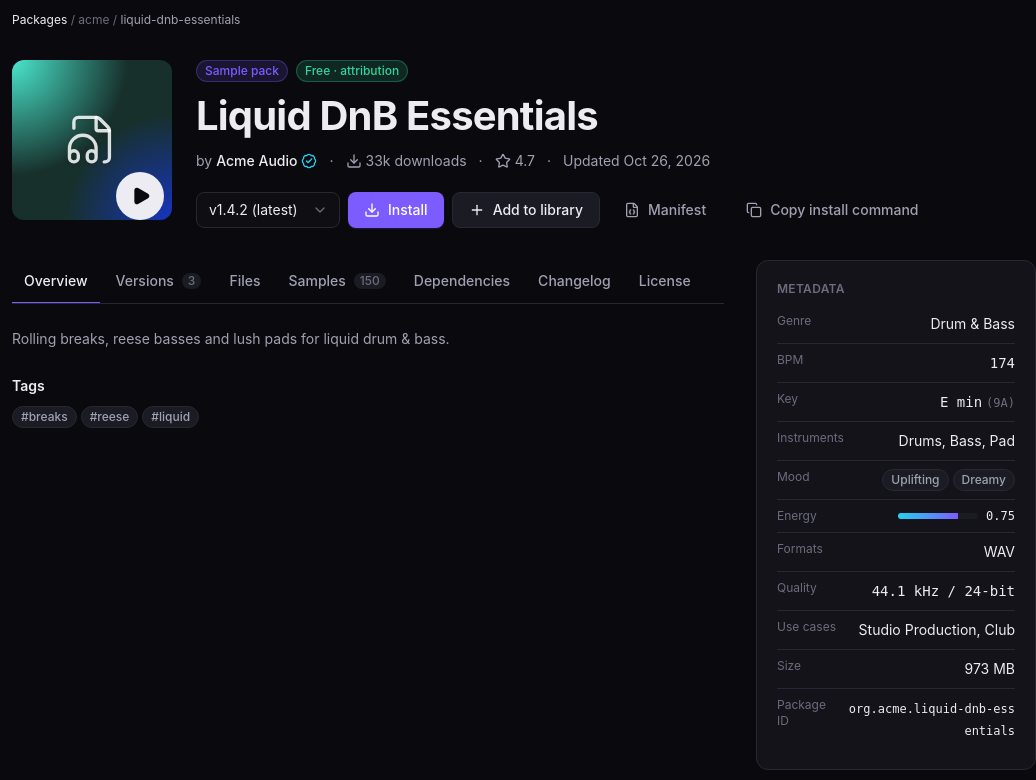
Test: PackageDetailsView › renders metadata, switches tabs and adds the package to the library
Expected: the heading "Liquid DnB Essentials" is shown, [196,91,598,140]
Expected: the link "Drum & Bass" is shown, [930,315,1015,332]
Click the tab "Versions 3".
click(158, 282)  # box [104,260,213,304]
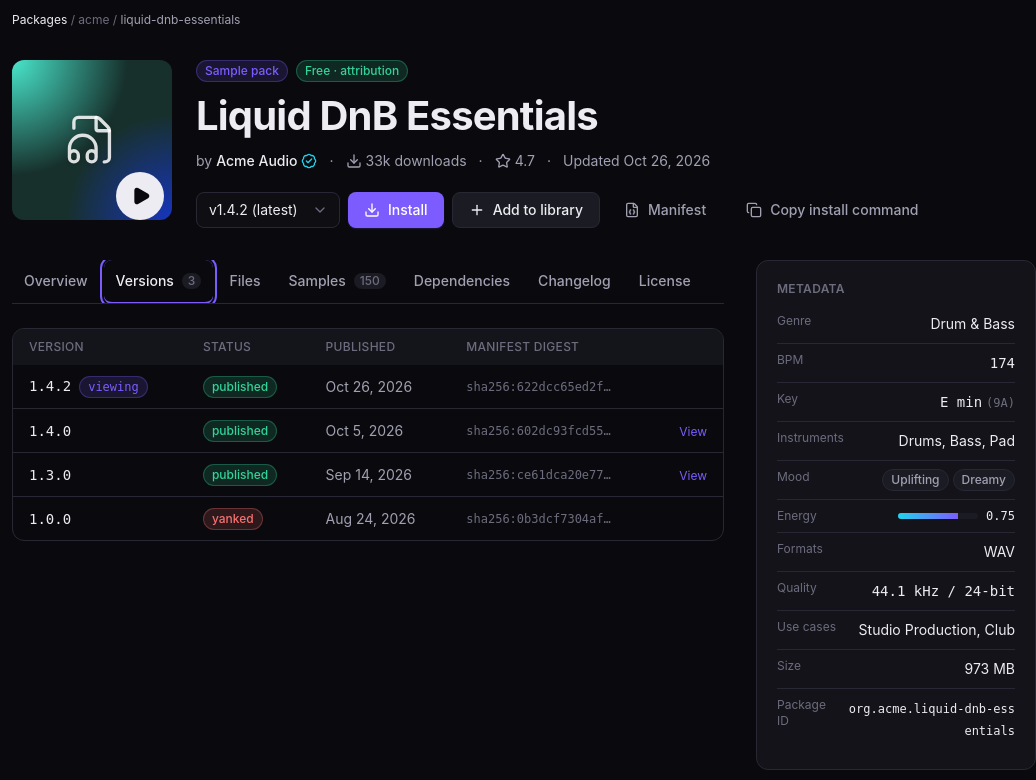
Now the cell "1.4.2 viewing" is shown, box [13,365,187,408]
Click the button "Add to library".
click(526, 210)  # box [452,192,600,228]
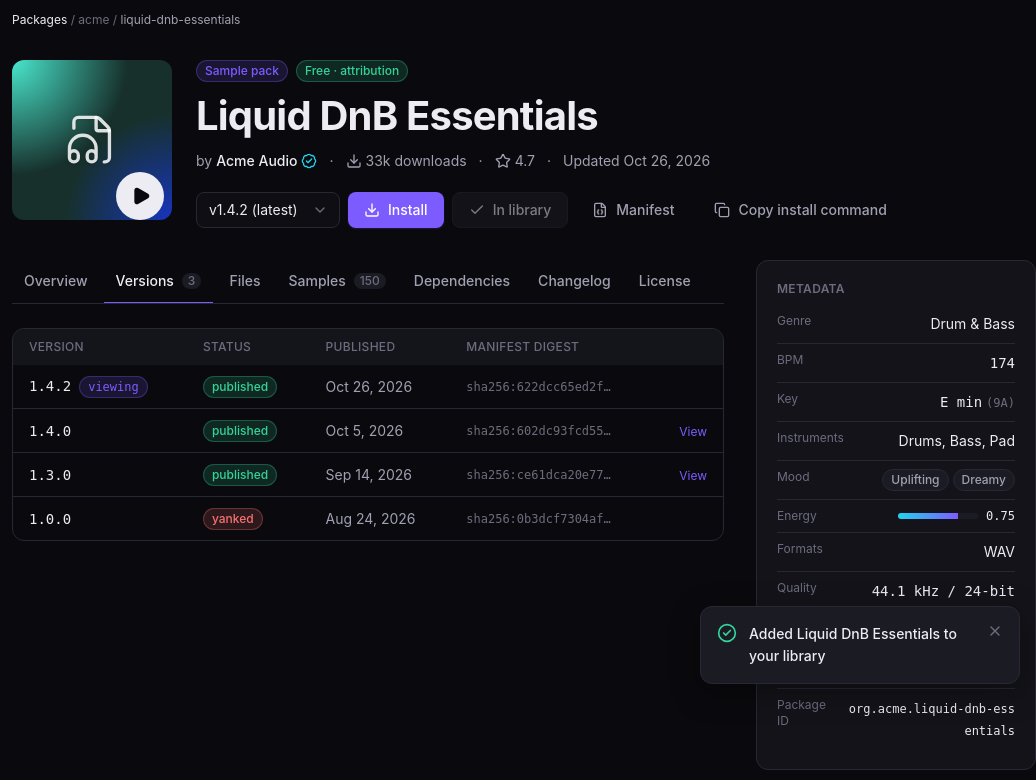
Now the button "In library" is disabled, box [452,192,568,228]
Now the text "Added Liquid DnB Essentials to your library" is shown, box [749,623,975,667]
